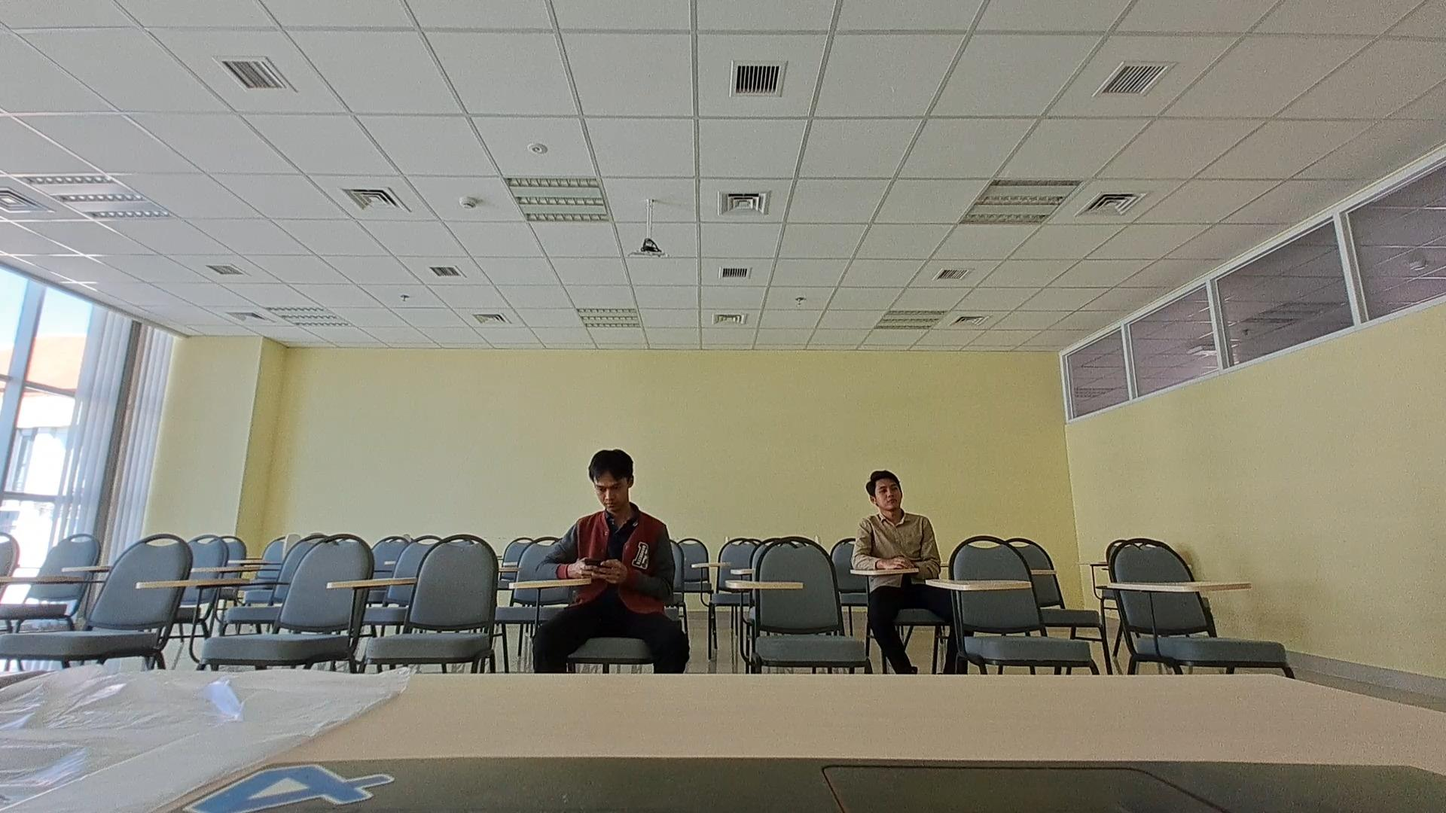phone: (533, 449, 670, 586)
study: (853, 469, 943, 574)
